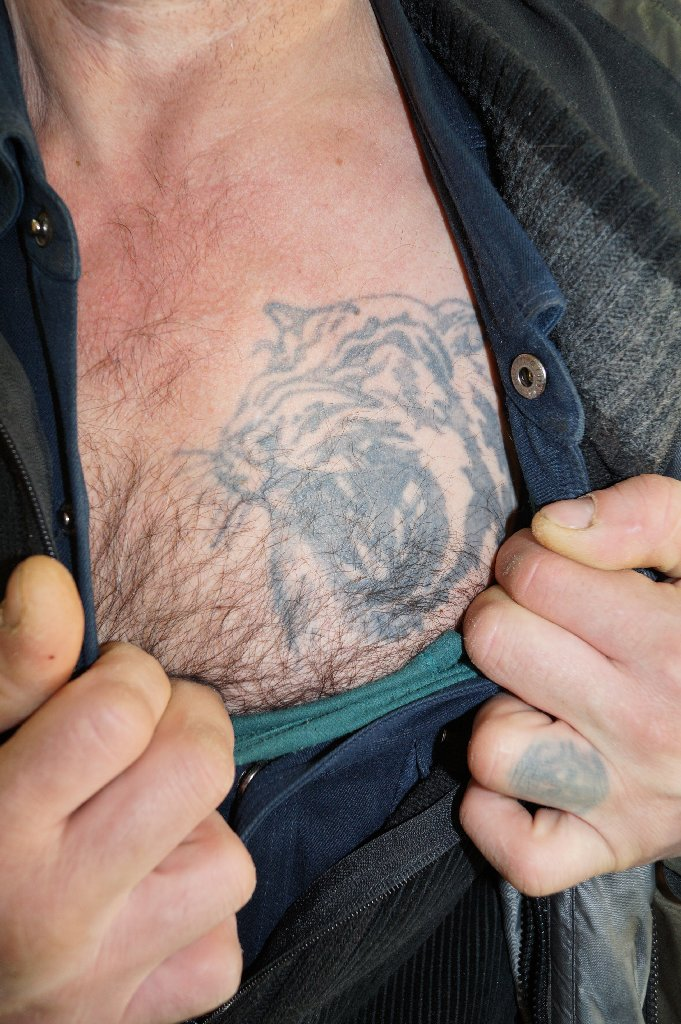tatu5_tigr: (142, 252, 567, 685)
